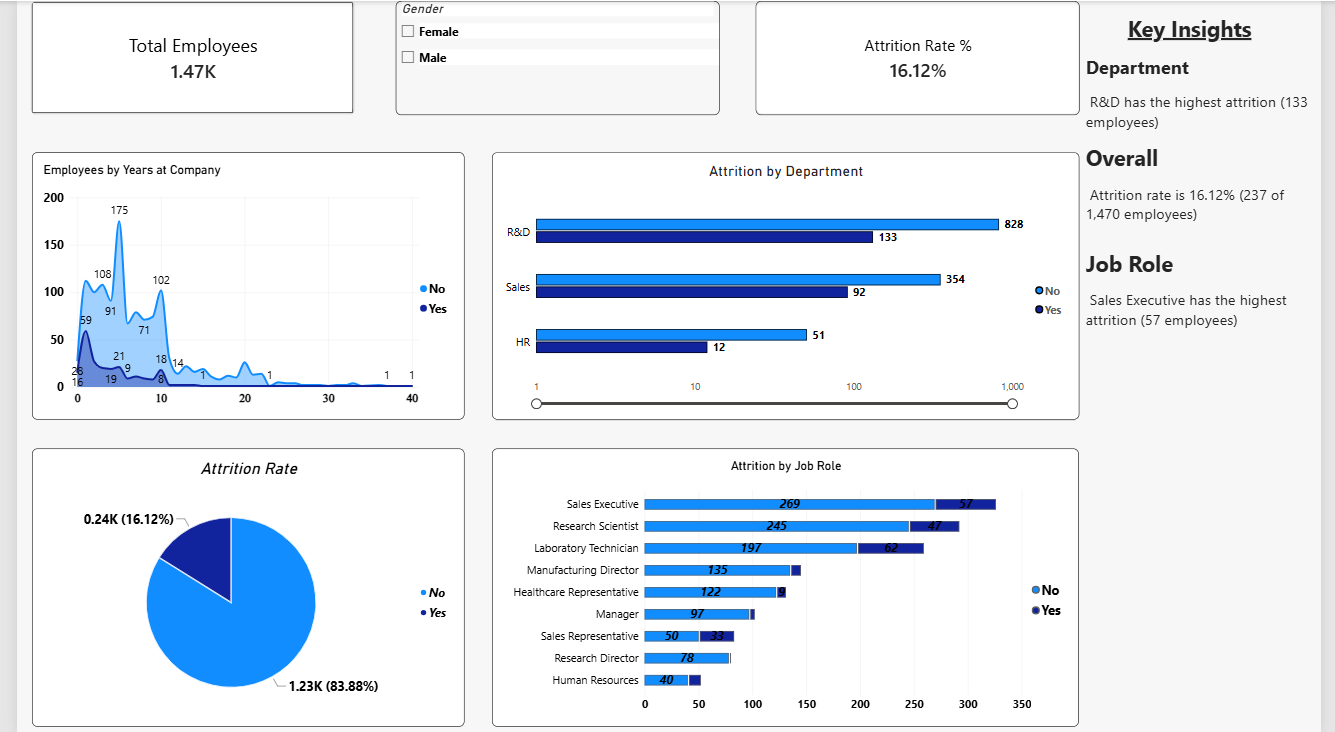

Layout of this report page (visuals, bound fields, positions):
{"tool":"powerbi","page":{"name":"Page 1","canvas":[1920,1080],"ordinal":0},"visuals":[{"type":"cardVisual","title":"Total Employees","fields":{"Data":["Count(hr_attrition.EmployeeNumber)"]},"box":[21,0,477.2,168],"z":0},{"type":"clusteredBarChart","title":"Attrition by Department","fields":{"Category":["hr_attrition.Department"],"Series":["hr_attrition.Attrition"],"Y":["CountNonNull(hr_attrition.Attrition)"]},"box":[700,223.4,864.7,393.2],"z":1},{"type":"pieChart","title":"Attrition Rate","fields":{"Category":["hr_attrition.Attrition"],"Y":["Count(hr_attrition.EmployeeNumber)"]},"box":[21.8,658.5,636.7,409.3],"z":2},{"type":"slicer","fields":{"Values":["hr_attrition.Gender"]},"box":[557.6,0,477,168],"z":3},{"type":"lineChart","title":"Employees by Years at Company","fields":{"Category":["hr_attrition.YearsAtCompany"],"Series":["hr_attrition.Attrition"],"Y":["Count(hr_attrition.EmployeeNumber)"]},"box":[21.8,223.4,636.7,393.5],"z":4},{"type":"barChart","title":"Attrition by Job Role","fields":{"Category":["hr_attrition.JobRole"],"Series":["hr_attrition.Attrition"],"Y":["Count(hr_attrition.EmployeeNumber)"]},"box":[700,658.5,864.1,409.3],"z":5},{"type":"cardVisual","fields":{"Data":["hr_attrition.Attrition Rate %"]},"box":[1087.5,0,477,168],"z":6},{"type":"textbox","box":[1574,0,346,1067.8],"z":7}]}

Visuals, with their boxes in screenshot pixels (x1, y1, x2, y2), scaled from the page's 1920x1080 canvas onto the 1335x732 screenshot:
"Total Employees" cardVisual: [left=15, top=0, right=346, bottom=114]
"Attrition by Department" clusteredBarChart: [left=487, top=151, right=1088, bottom=418]
"Attrition Rate" pieChart: [left=15, top=446, right=458, bottom=724]
slicer - hr_attrition.Gender: [left=388, top=0, right=719, bottom=114]
"Employees by Years at Company" lineChart: [left=15, top=151, right=458, bottom=418]
"Attrition by Job Role" barChart: [left=487, top=446, right=1088, bottom=724]
cardVisual - hr_attrition.Attrition Rate %: [left=756, top=0, right=1088, bottom=114]
textbox: [left=1094, top=0, right=1334, bottom=724]
